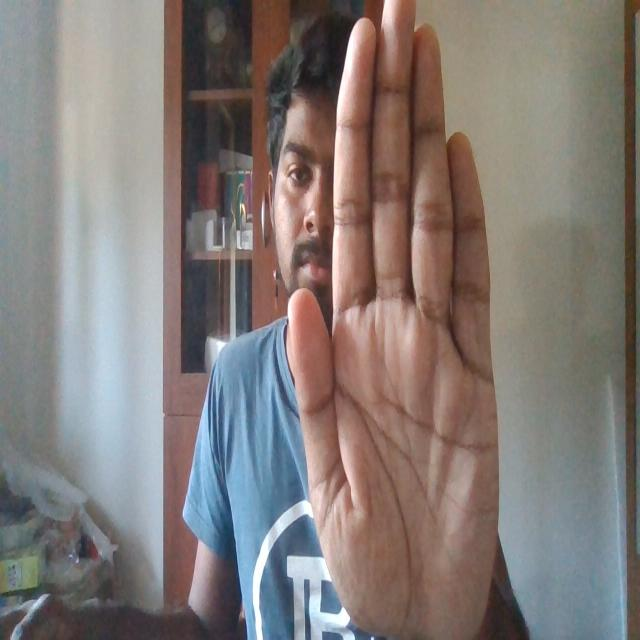Hello: (284, 0, 508, 640)
